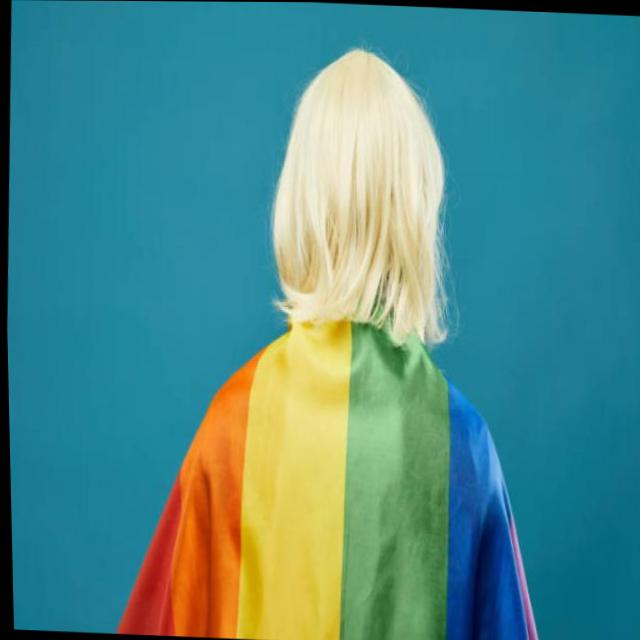no helmet: (264, 39, 459, 348)
